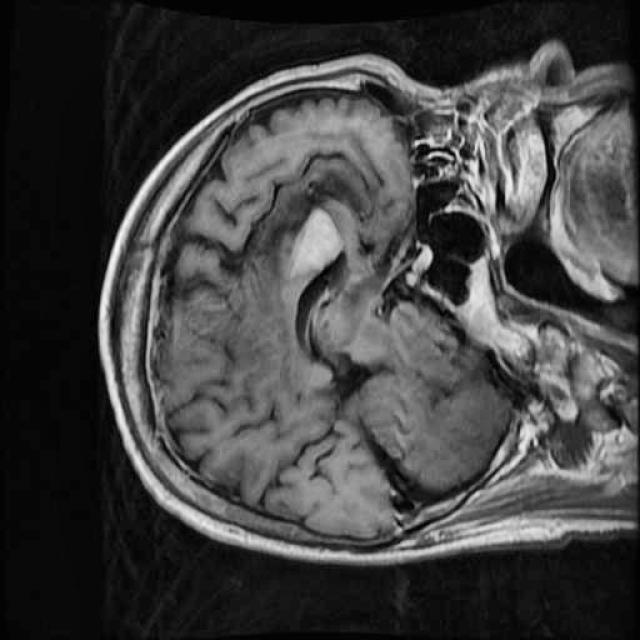Tumor: (274, 202, 362, 286)
